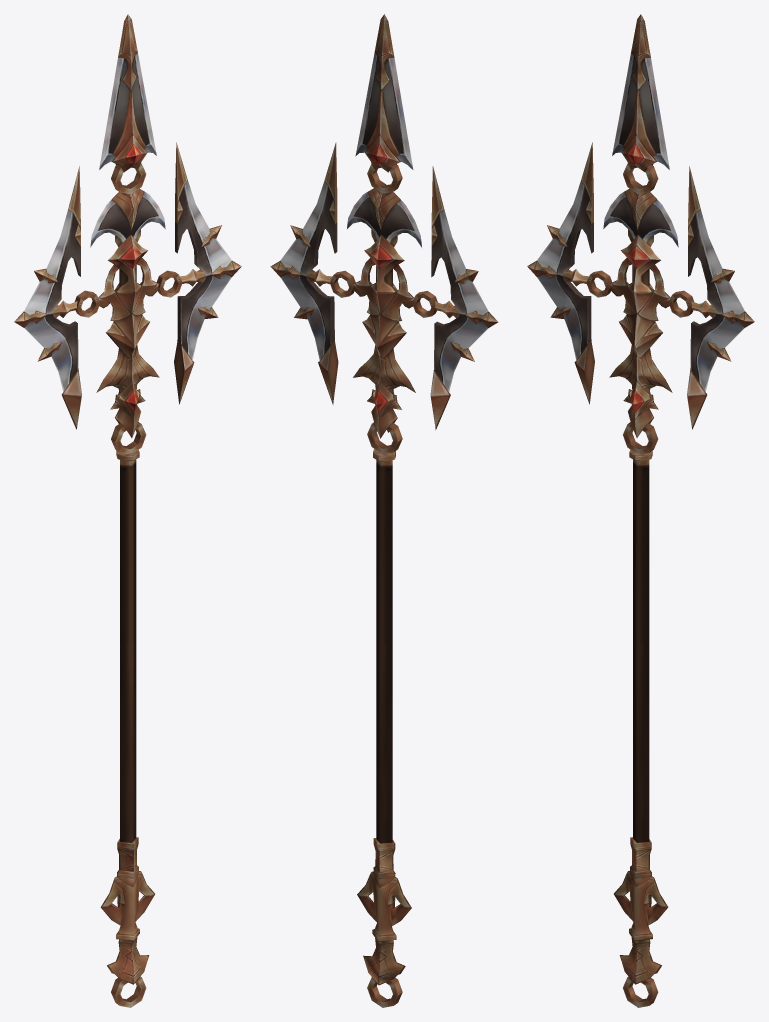
File: Hero_Theo_Cos18Summer_Weapon.fbx
3 views of the same model, side by side, from view 1: azimuth 30°, elevation 25°; view 2: azimuth 150°, elevation 25°; view 3: azimuth 330°, elevation 25° (orthographic).
Visible parts, largest first — view 1: Hero_Theo_Cos18Summer_Weapon; view 2: Hero_Theo_Cos18Summer_Weapon; view 3: Hero_Theo_Cos18Summer_Weapon.
Part boxes in pixels (<box>): Hero_Theo_Cos18Summer_Weapon: <box>14,14,241,1007</box>; Hero_Theo_Cos18Summer_Weapon: <box>270,14,498,1007</box>; Hero_Theo_Cos18Summer_Weapon: <box>527,14,754,1007</box>.
Size of the model in its own units: 0.5613 by 2.33 by 0.0684.
1 material, 1 textured.
